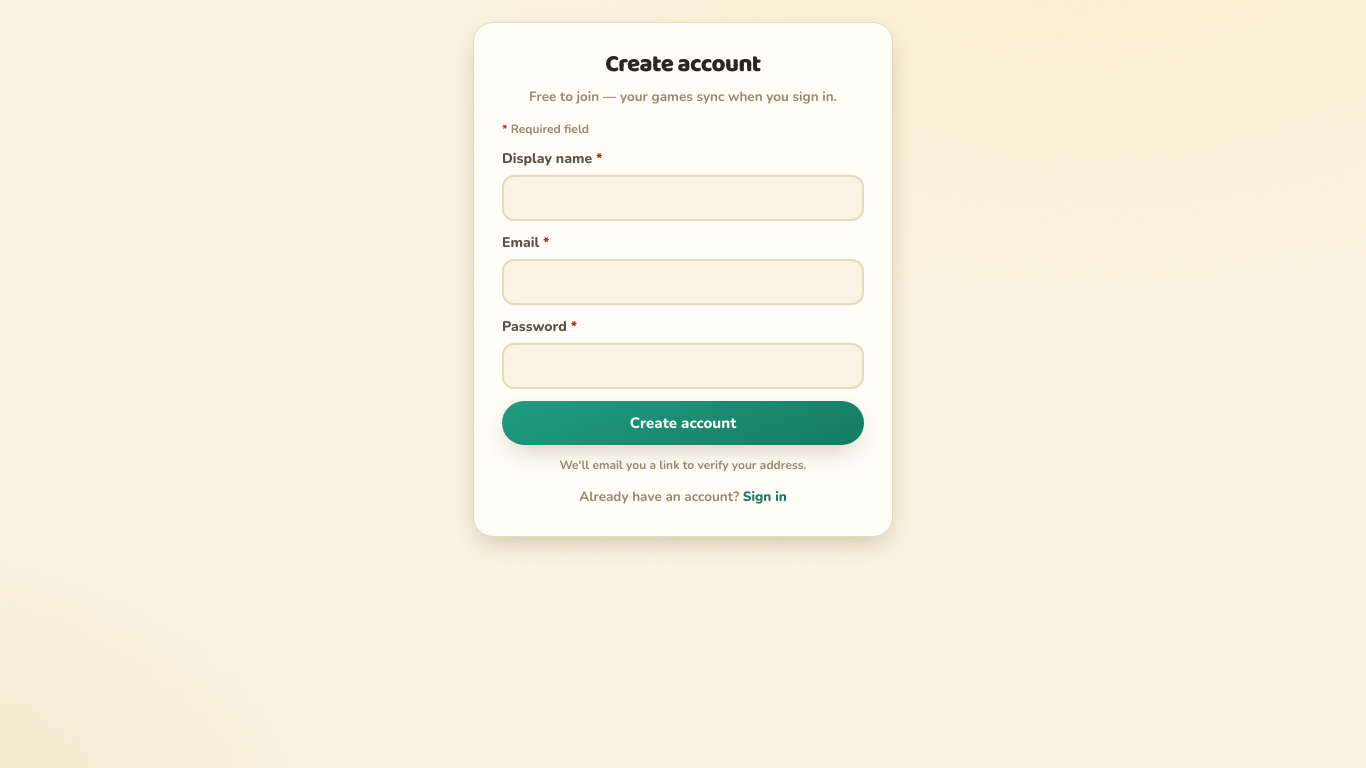
Test: AuthScreen › blocks register submit without a email
The width and height of the screenshot is (1366, 768).
Expected: the heading "Create account" is shown, [605,45,761,84]
Type "Dang" into the field labelled "Display name *".
click(683, 198); type("Dang")  # box [502,175,864,221]
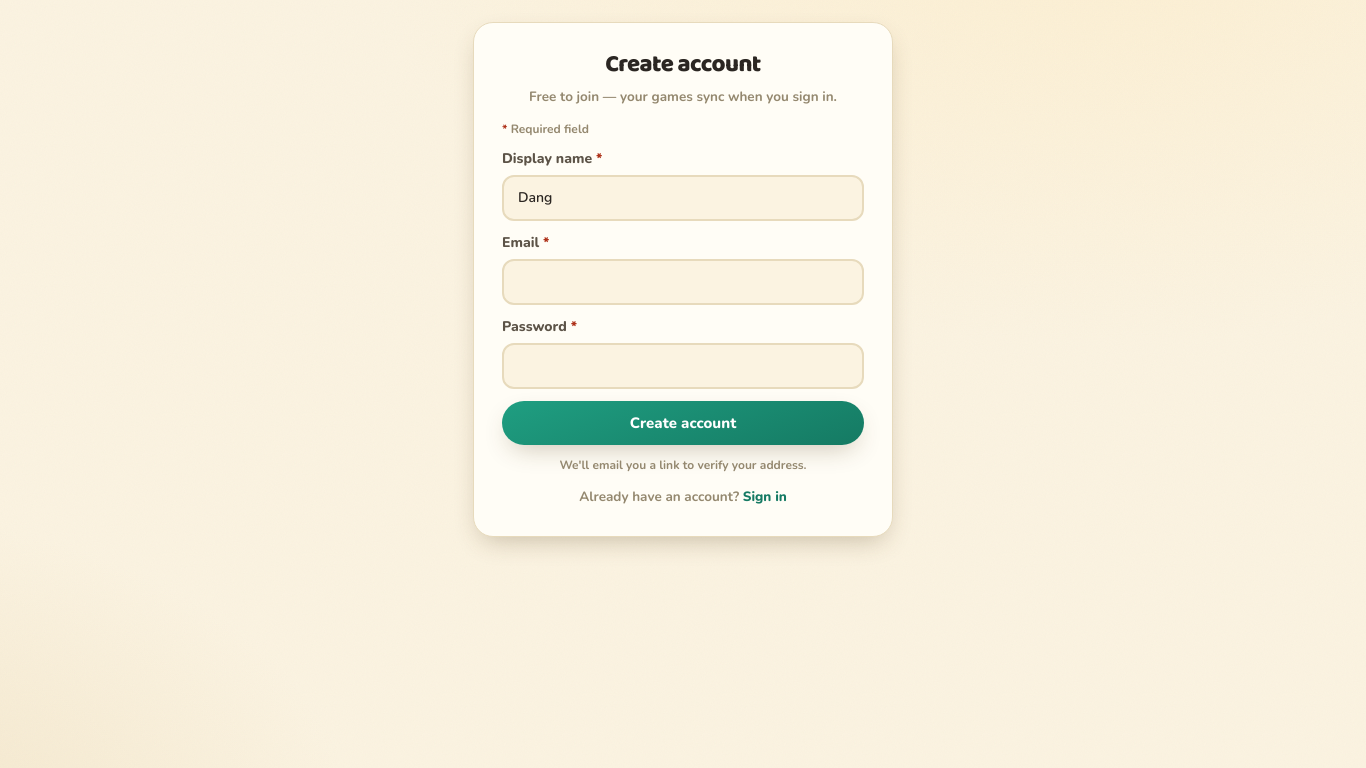
Type "password12" into the password field labelled "Password *".
click(683, 366); type("password12")  # box [502,343,864,389]
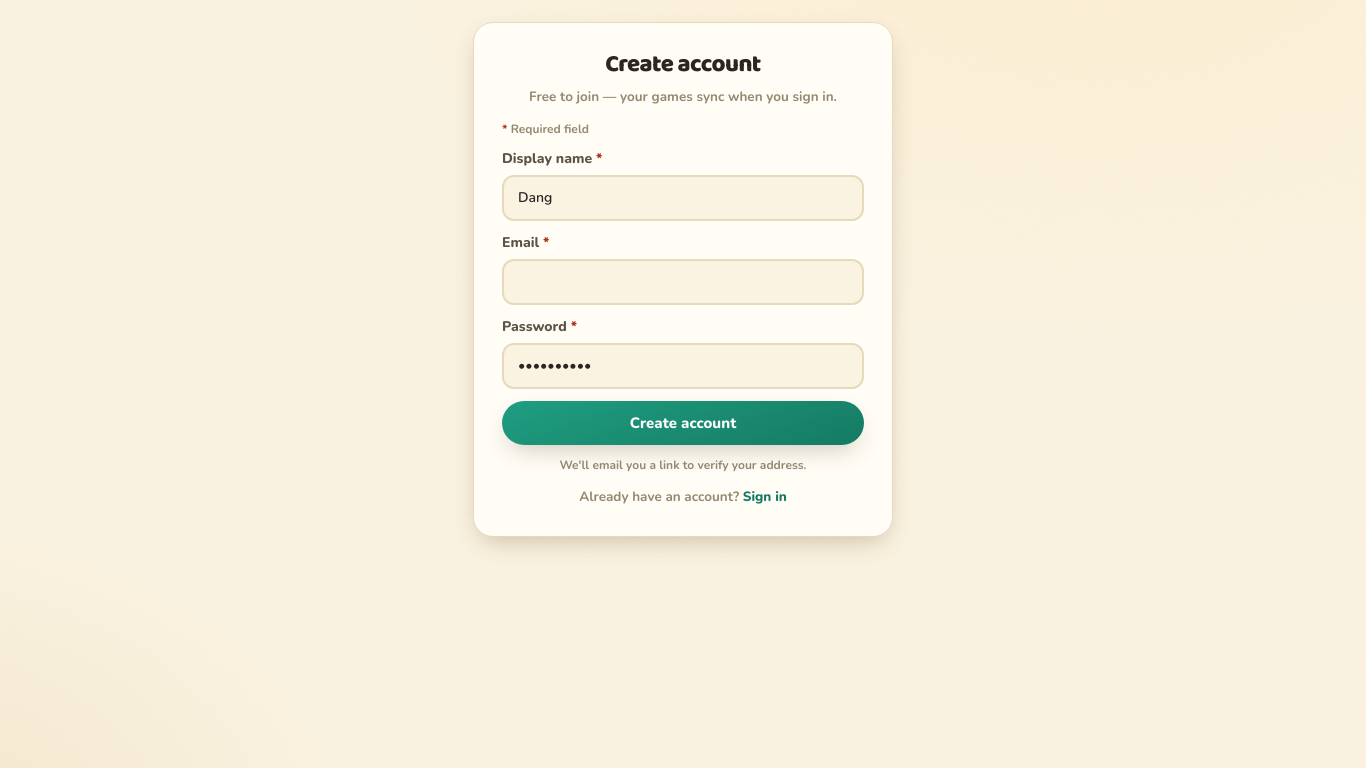
Submit the form from the button "Create account", box [502,401,864,445]
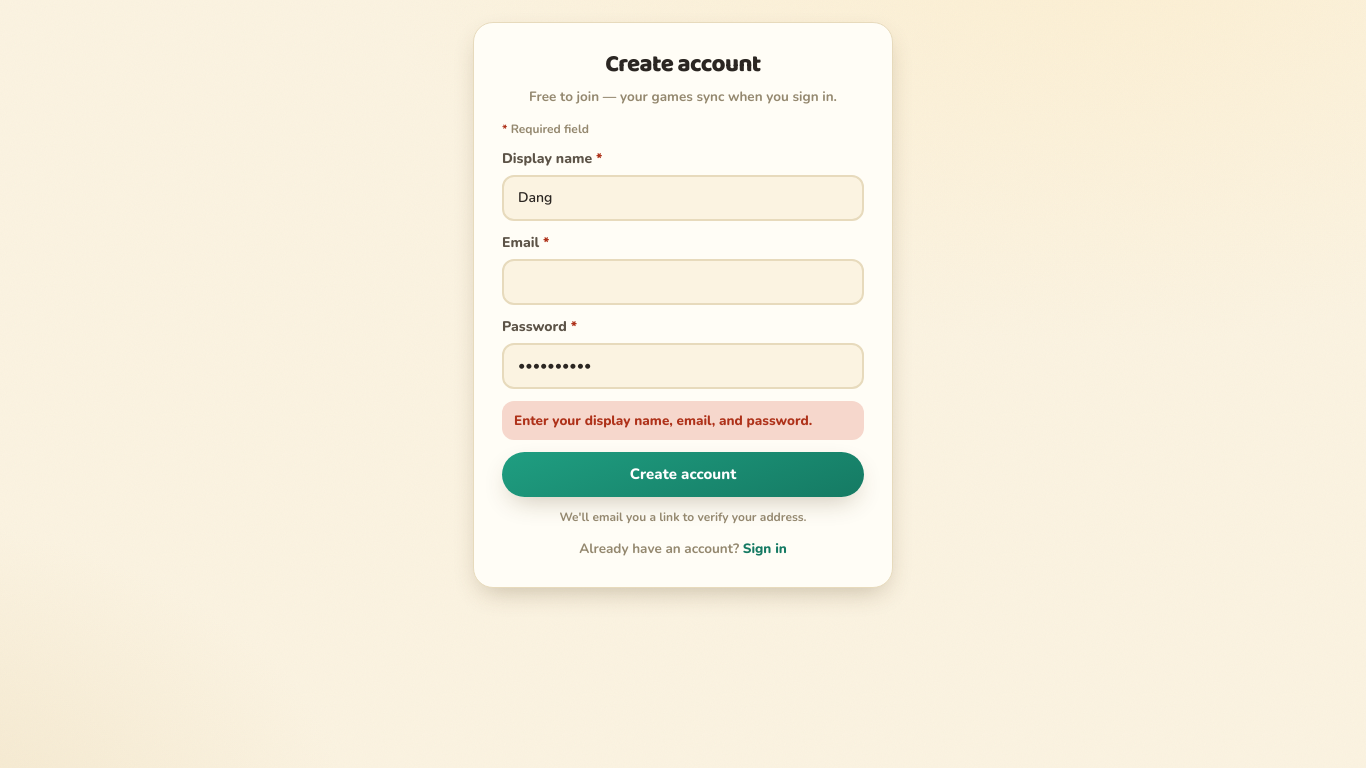
Now the message reads "Enter your display name, email, and password.", box [514,411,812,430]
